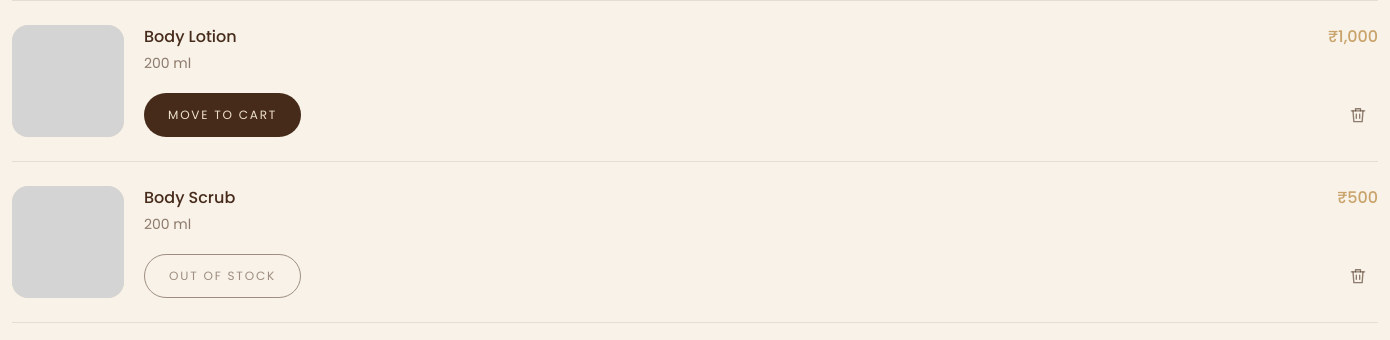
WishlistView › the bin takes it off the wishlist
The width and height of the screenshot is (1390, 340).
Click the button named "Remove Body Lotion from wishlist" at (1358, 115), box [1338,95,1378,135]
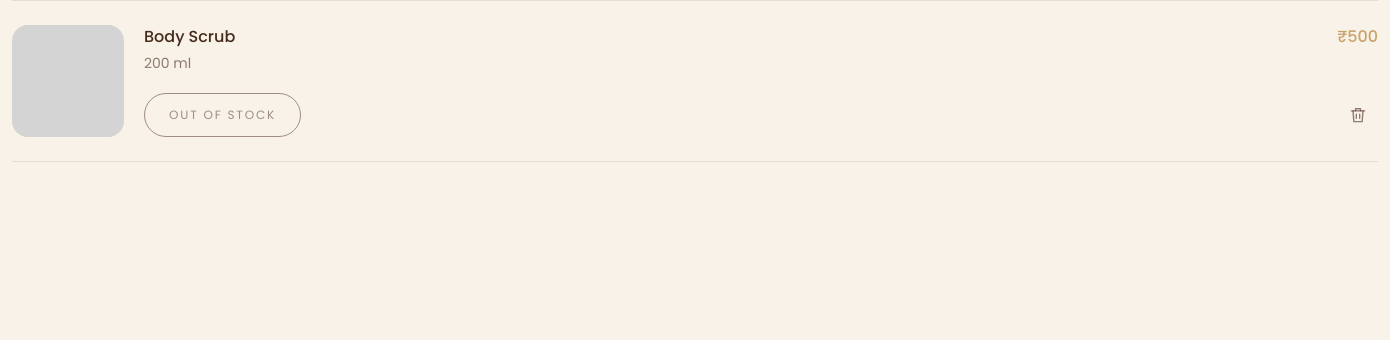
Expected: the link "Body Lotion" is gone
